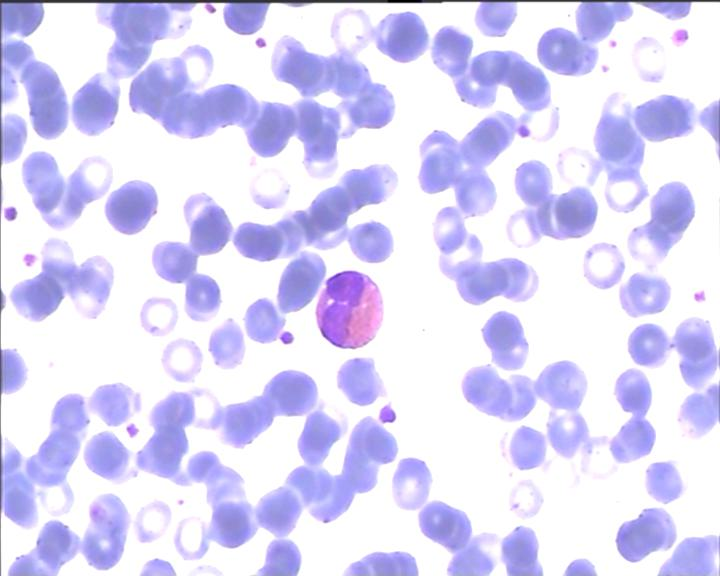eosi: (313, 265, 386, 351)
